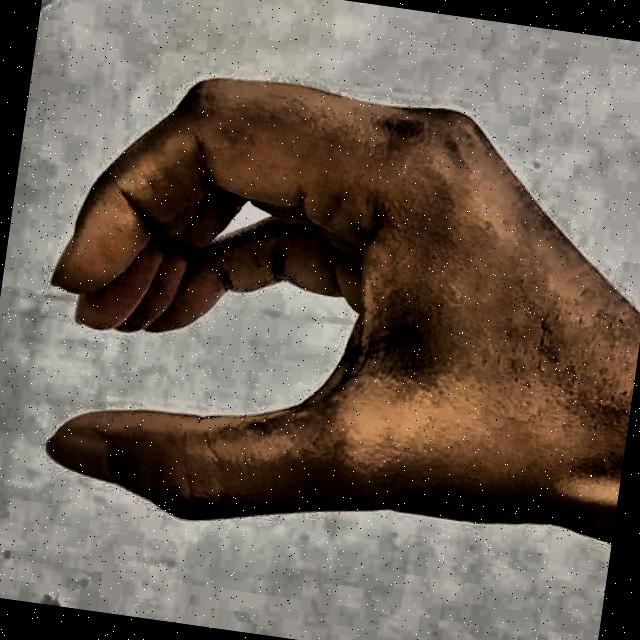Ka: (9, 25, 640, 602)
